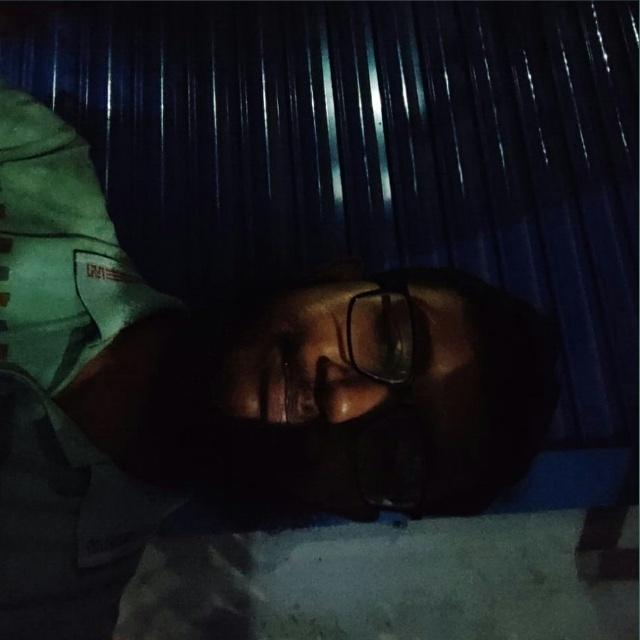Sad: (205, 272, 532, 498)
